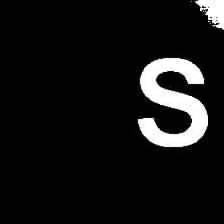LTR_S: (130, 50, 210, 152)
